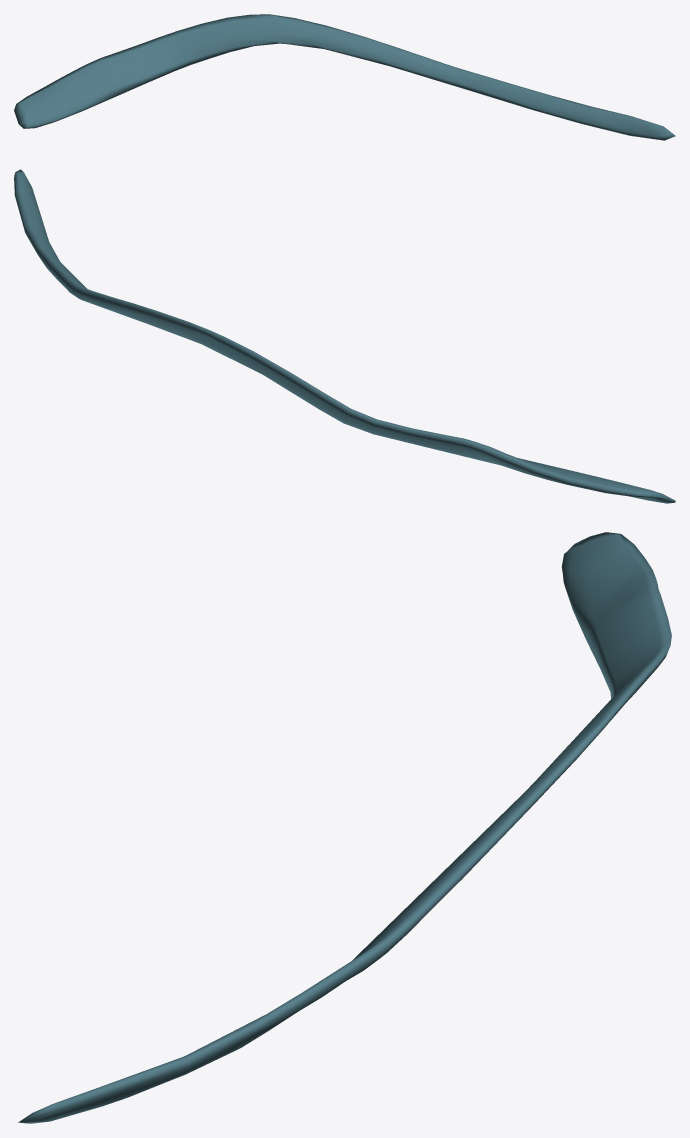
Rendered from Spinalis_capitis_muscle-Occipital_insertion.l_Generated_Mesh_Fr.glb.
The picture shows the model from 3 angles, top to bottom: view 1: azimuth 30°, elevation 25°; view 2: azimuth 150°, elevation 25°; view 3: azimuth 270°, elevation 25°; orthographic projection. The views are drawn at different scales.
Parts seen in each view (by area): view 1: Spinalis_capitis_muscle-Occipital_insertion.l_Generated_Mesh; view 2: Spinalis_capitis_muscle-Occipital_insertion.l_Generated_Mesh; view 3: Spinalis_capitis_muscle-Occipital_insertion.l_Generated_Mesh.
Boxes of the visible parts, box(x1,y1,x2,y2) form: Spinalis_capitis_muscle-Occipital_insertion.l_Generated_Mesh: box(14, 14, 675, 140); Spinalis_capitis_muscle-Occipital_insertion.l_Generated_Mesh: box(14, 169, 675, 503); Spinalis_capitis_muscle-Occipital_insertion.l_Generated_Mesh: box(18, 532, 671, 1123).
Size of the model in its own units: 0.0405 by 0.00623 by 0.0222.
